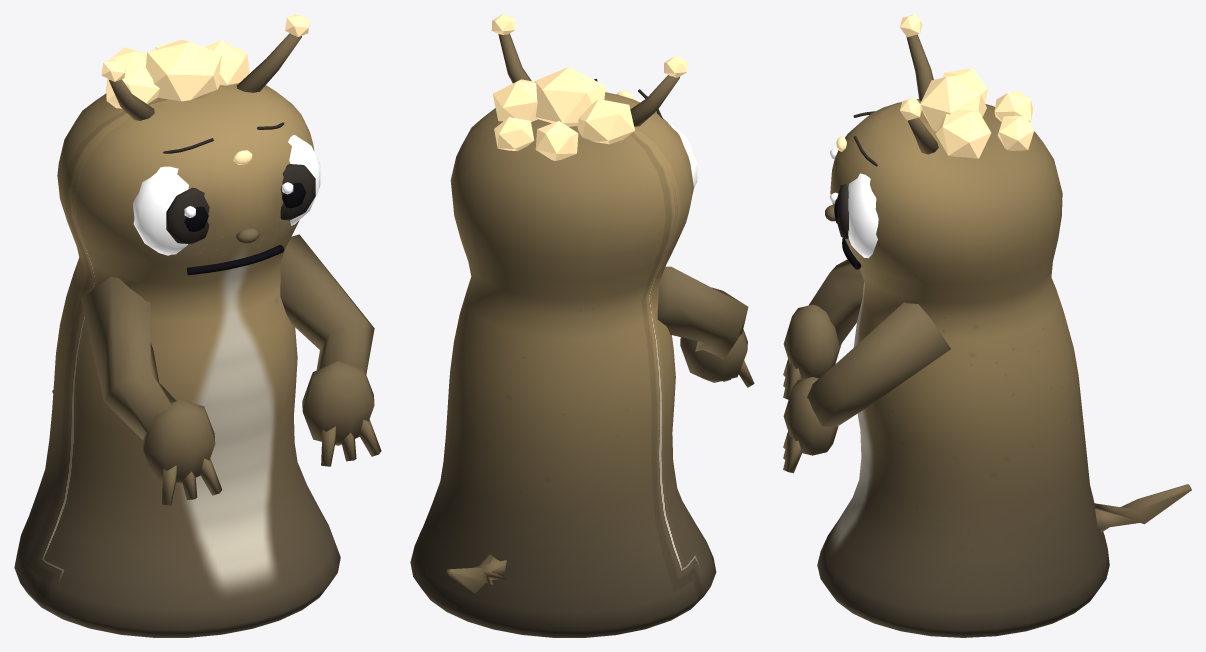
File: titan_pixar.glb
The picture shows the model from 3 angles, left to right: view 1: azimuth 30°, elevation 25°; view 2: azimuth 150°, elevation 25°; view 3: azimuth 270°, elevation 25°; orthographic projection. The views are drawn at different scales.
Parts seen in each view (by area): view 1: titan_cuerpo; view 2: titan_cuerpo; view 3: titan_cuerpo.
Part boxes in pixels (left/top/right/bottom): titan_cuerpo: left=14, top=14, right=381, bottom=637; titan_cuerpo: left=410, top=14, right=754, bottom=637; titan_cuerpo: left=783, top=14, right=1191, bottom=637.
Size of the model in its own units: 0.3116 by 0.58 by 0.4146.
Materials: 5 (1 with a texture image).
